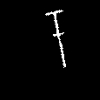double_crochet: (45, 10, 65, 66)
